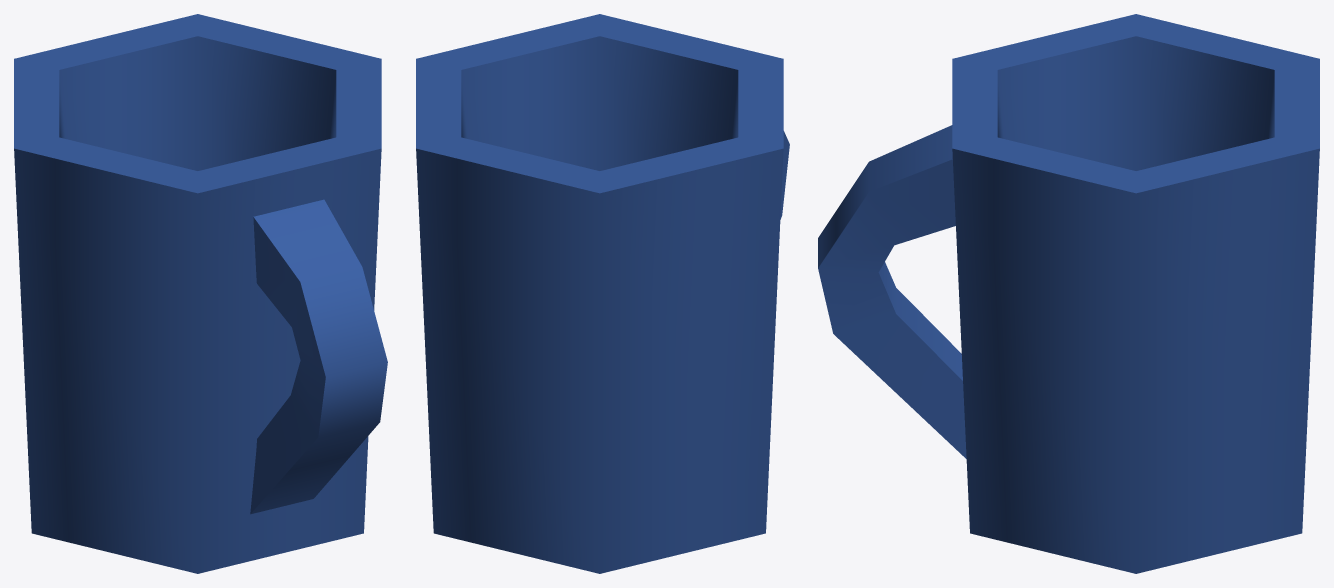
File: SM_Cup_02.fbx
3 views of the same model, side by side, from view 1: azimuth 30°, elevation 25°; view 2: azimuth 150°, elevation 25°; view 3: azimuth 270°, elevation 25° (orthographic).
Visible parts, largest first — view 1: SM_Cup_02; view 2: SM_Cup_02; view 3: SM_Cup_02.
Boxes of the visible parts, box(x1,y1,x2,y2) form: SM_Cup_02: box(14, 14, 387, 573); SM_Cup_02: box(416, 14, 789, 573); SM_Cup_02: box(818, 14, 1319, 573).
Bounding box in the file's own units: 19.49 × 19.72 × 23.05.
Materials: 1 (1 with a texture image).
